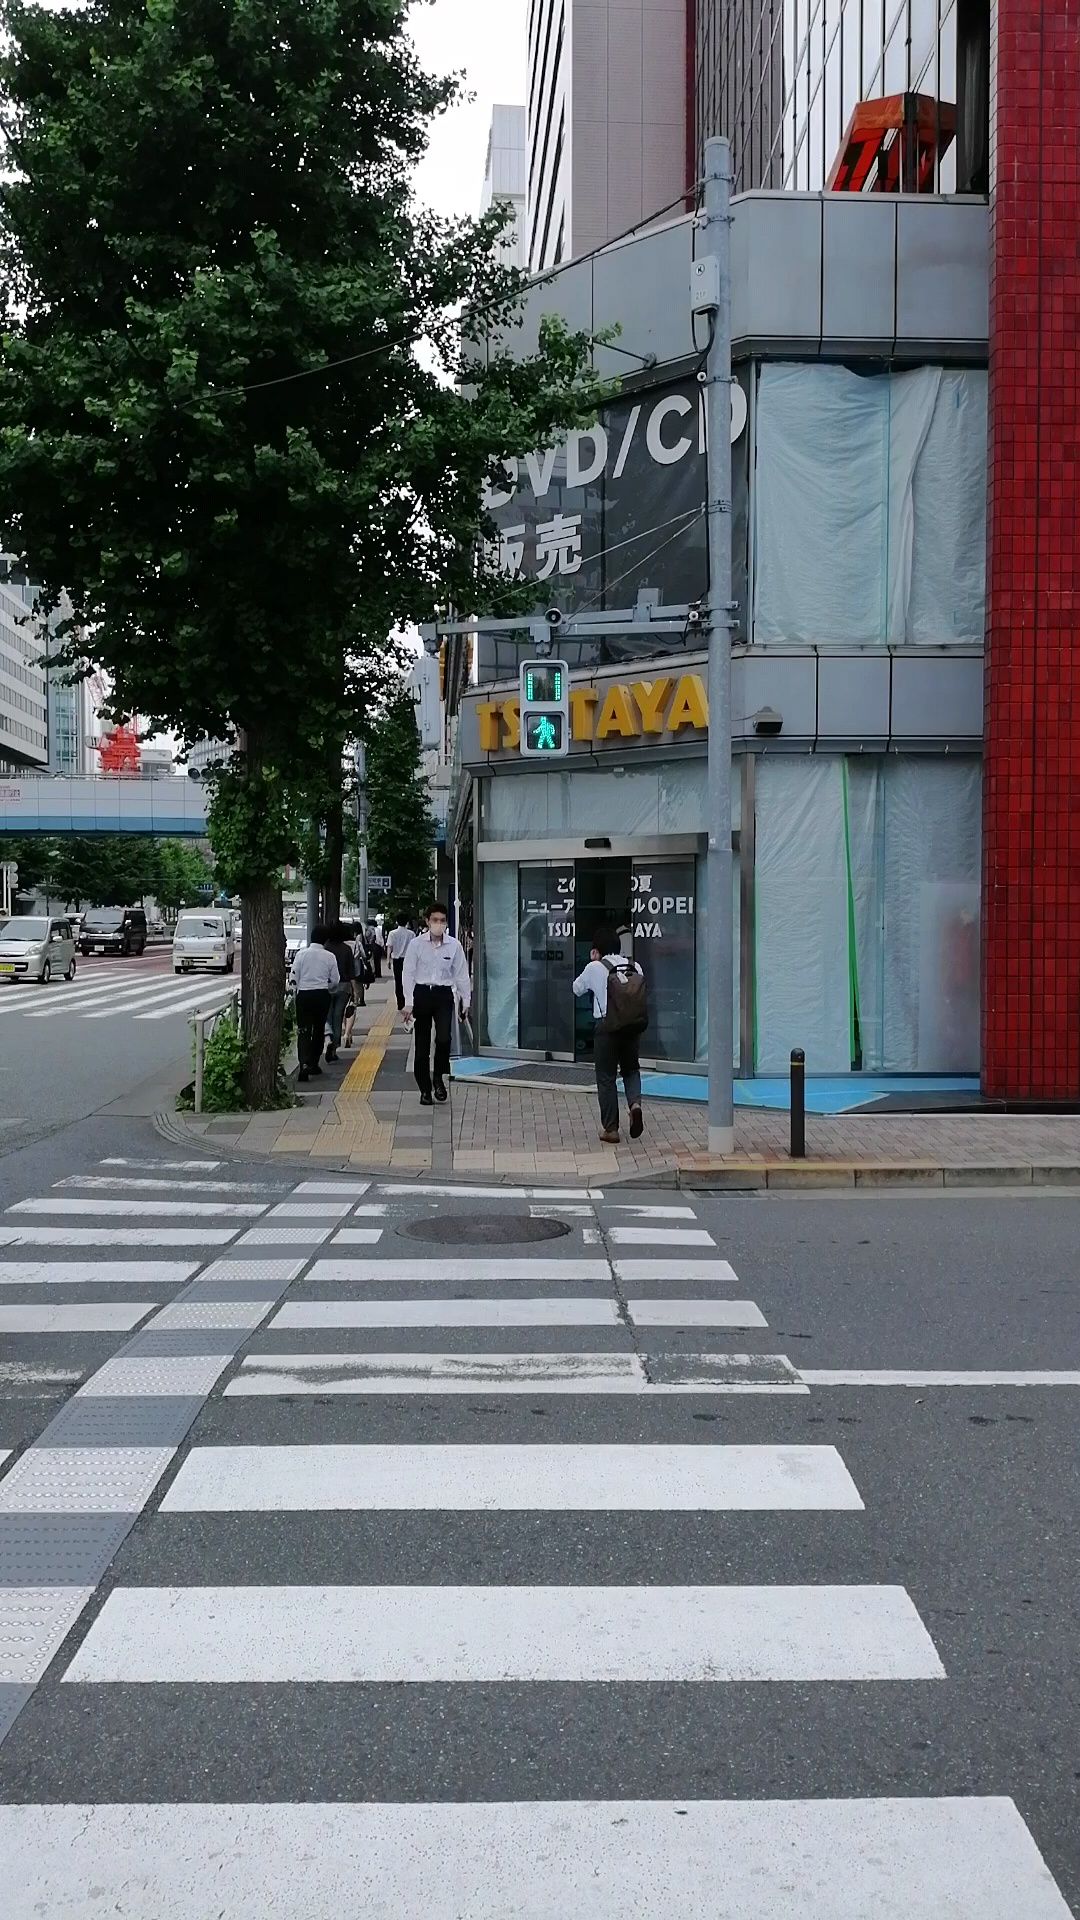green: (516, 655, 572, 760)
